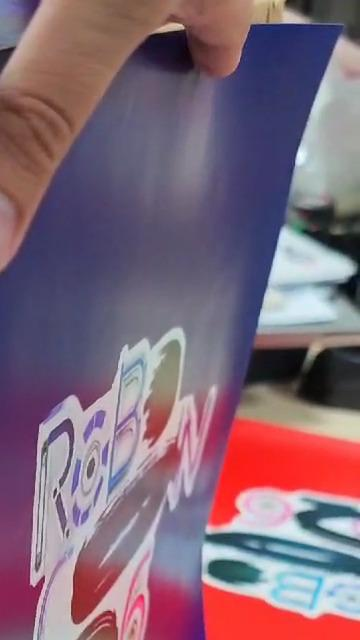B_R1: (30, 328, 223, 640)
